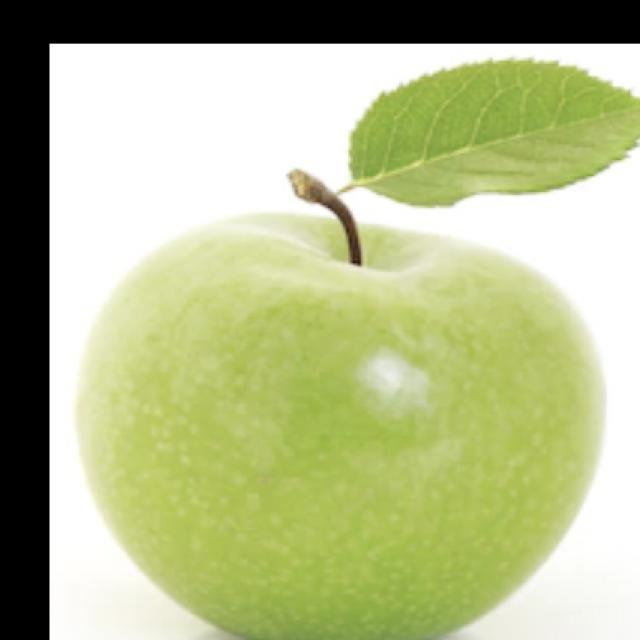Fresh Apple: (71, 204, 615, 640)
